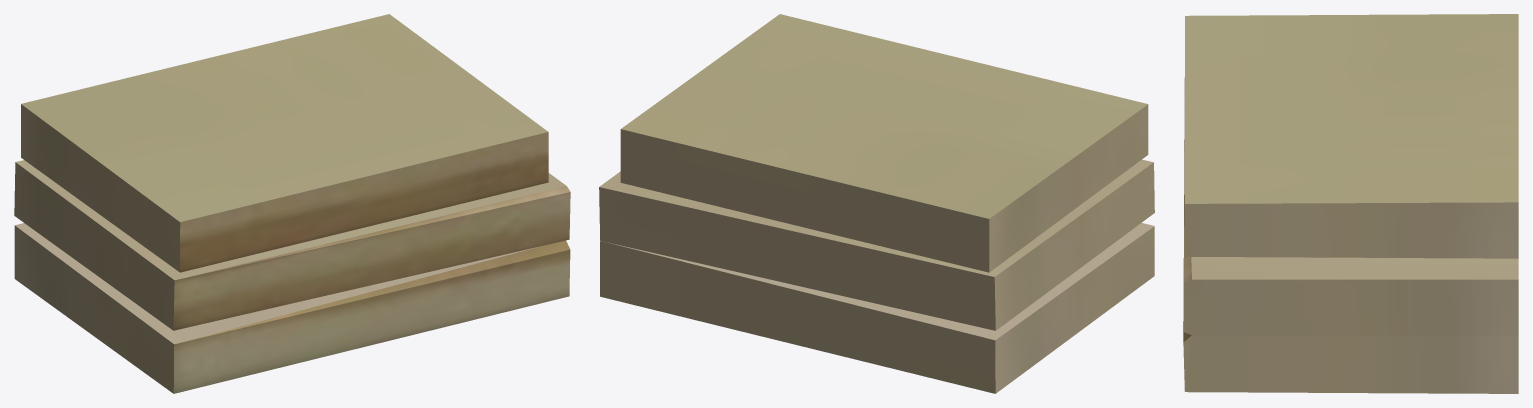
The model's file is book2_h3.dae.
3 renders of one model, left to right at view 1: azimuth 30°, elevation 25°; view 2: azimuth 150°, elevation 25°; view 3: azimuth 270°, elevation 25°, orthographic. The views are drawn at different scales.
Visible parts, largest first — view 1: node; view 2: node; view 3: node.
Part boxes in pixels (<box>): node: <box>14,14,570,393</box>; node: <box>599,14,1154,393</box>; node: <box>1183,14,1518,393</box>.
Size of the model in its own units: 0.1722 by 0.072 by 0.1203.
1 material, 1 textured.
